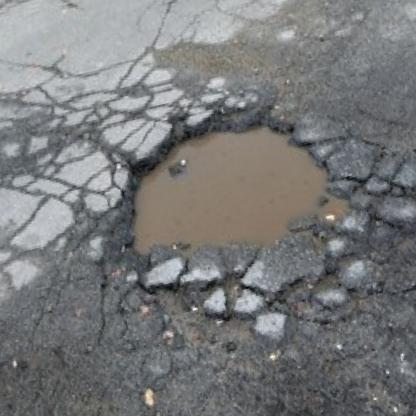pothole: (100, 85, 371, 289)
